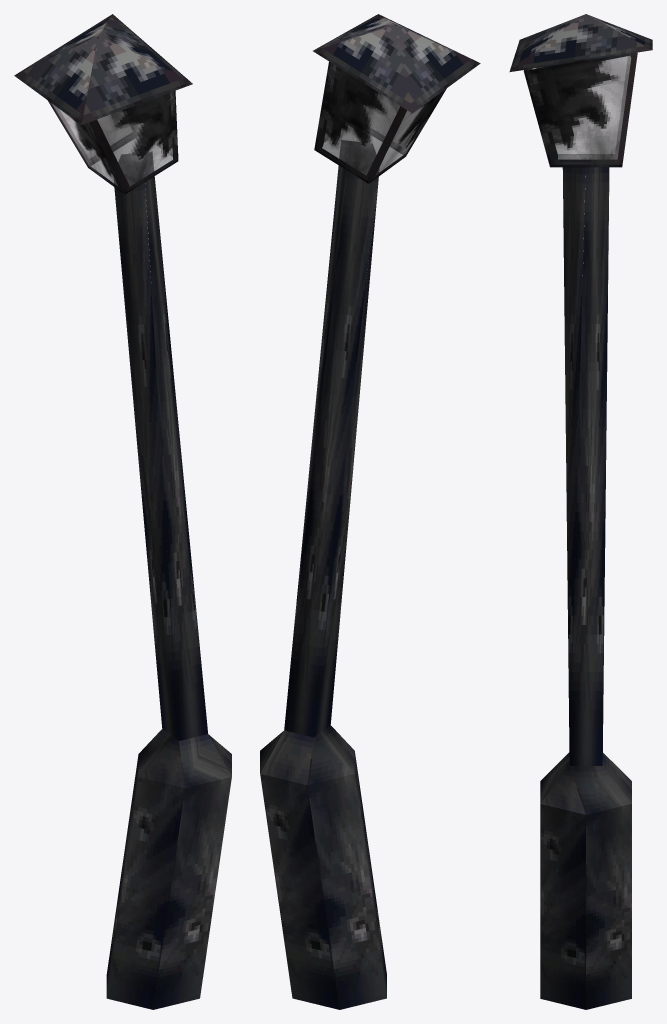
File: Environment - Vegetation - Street Lamp 03 - Damaged - PEStrtLamp_d.glb
3 views of the same model, side by side, from view 1: azimuth 30°, elevation 25°; view 2: azimuth 150°, elevation 25°; view 3: azimuth 270°, elevation 25° (orthographic). The views are drawn at different scales.
Parts seen in each view (by area): view 1: PESTRTLAMP_D; view 2: PESTRTLAMP_D; view 3: PESTRTLAMP_D.
Boxes of the visible parts, x1,y1,x2,y2 form: PESTRTLAMP_D: (14, 14, 231, 1009); PESTRTLAMP_D: (260, 14, 480, 1009); PESTRTLAMP_D: (509, 14, 652, 1009).
Bounding box in the file's own units: 4.48 × 22.41 × 3.07.
Materials: 1 (1 with a texture image).
